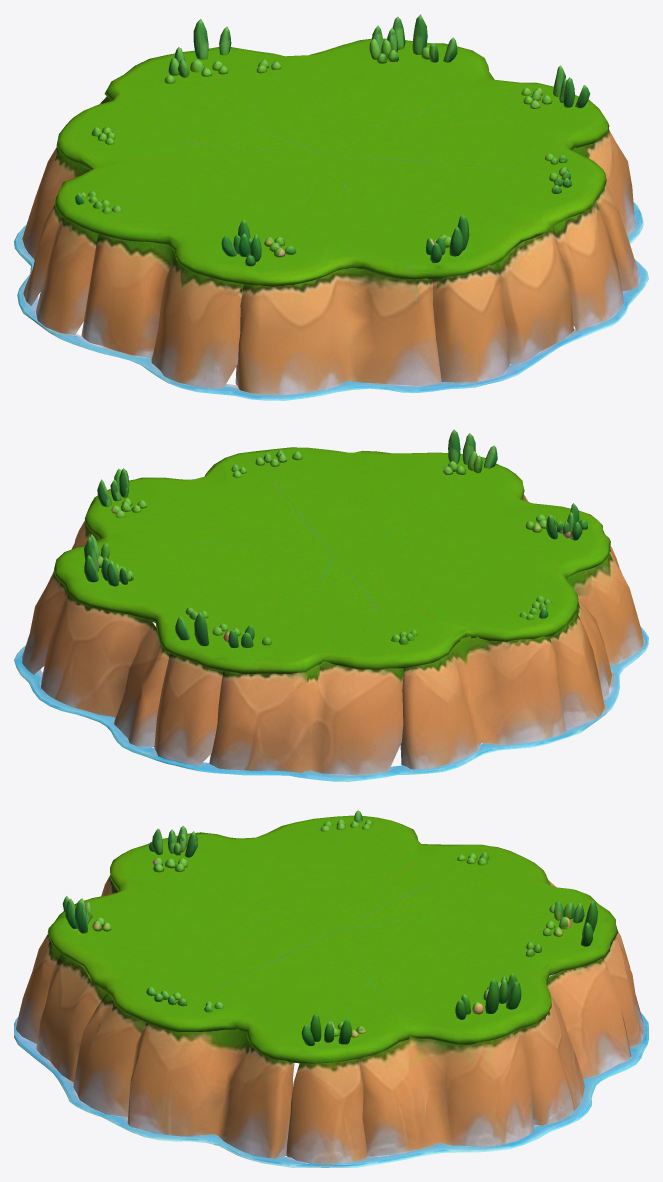
The model's file is s2_r4c2_player_plot_land.glb.
The picture shows the model from 3 angles, top to bottom: view 1: azimuth 30°, elevation 25°; view 2: azimuth 150°, elevation 25°; view 3: azimuth 270°, elevation 25°; orthographic projection. The views are drawn at different scales.
Bounding box in the file's own units: 1 × 0.2394 × 1.
1 material, 1 textured.
